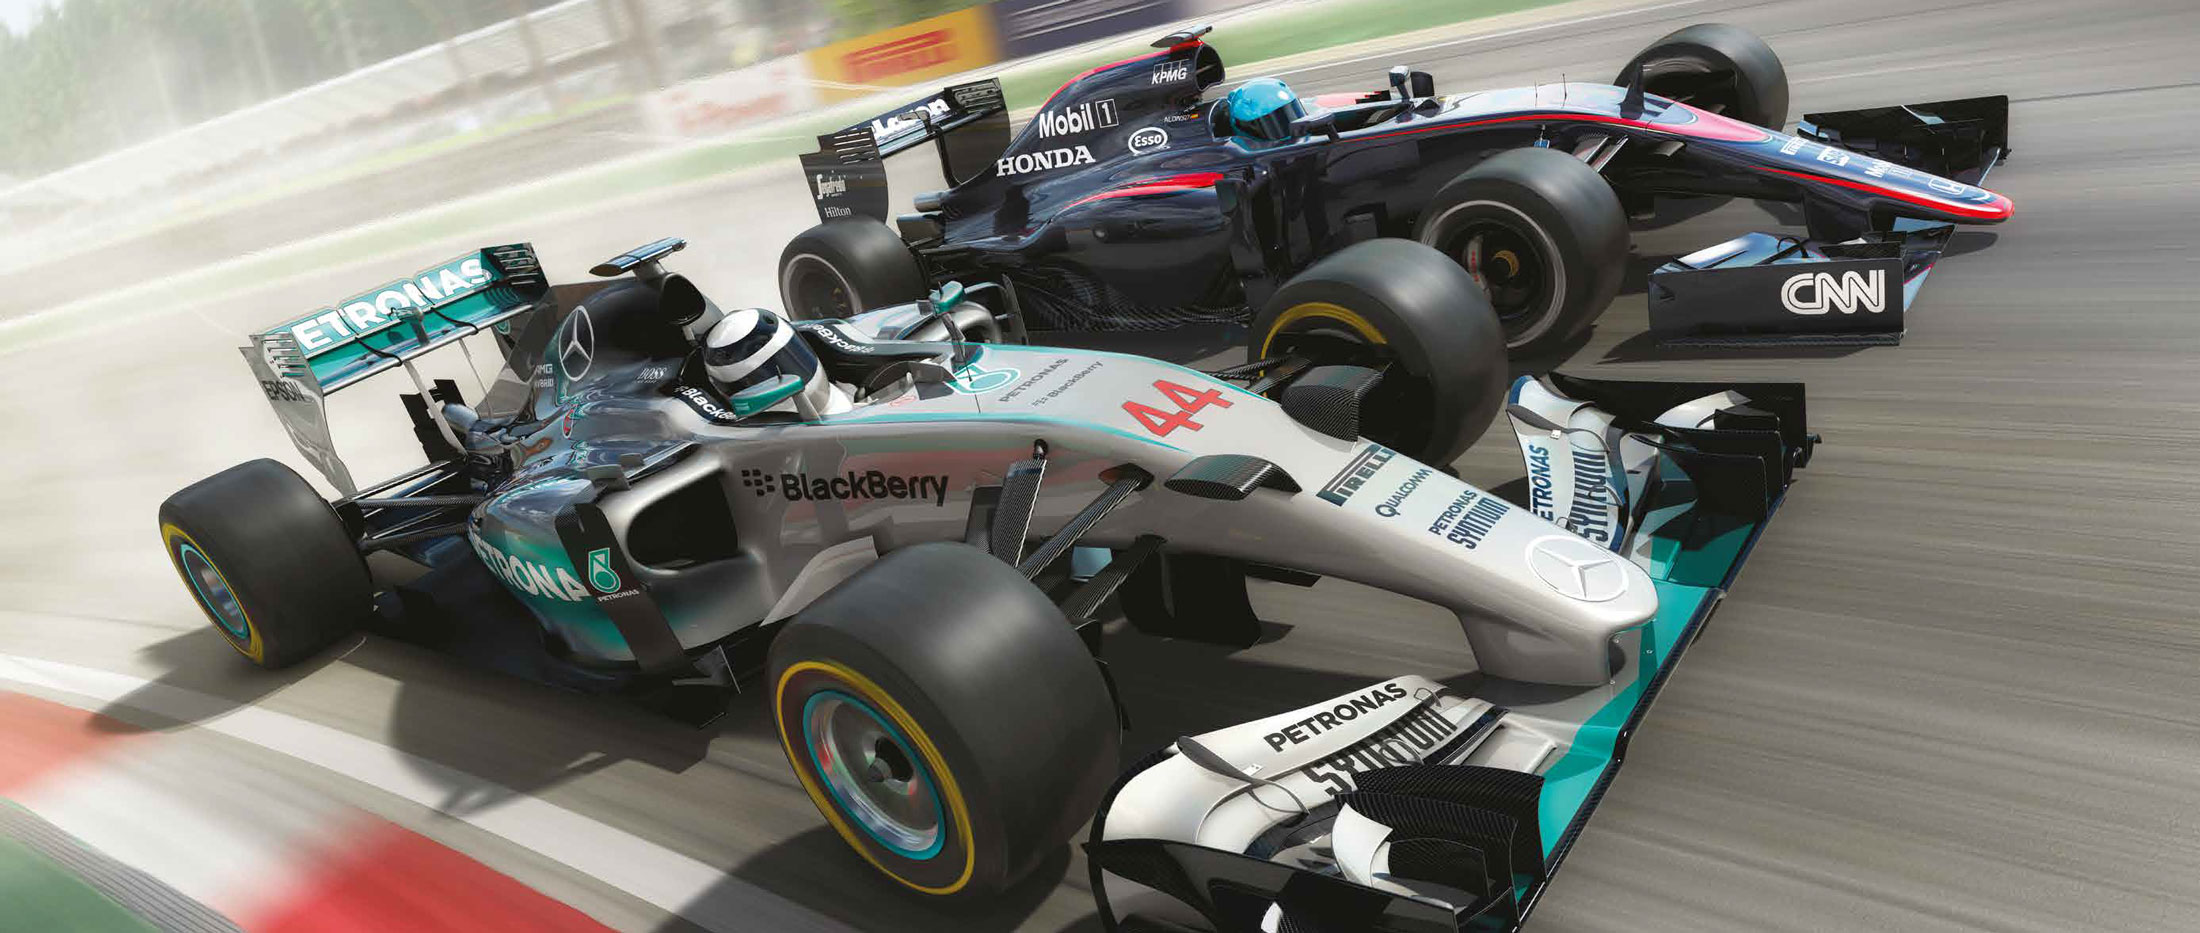f1_car: (125, 216, 1859, 933), (760, 13, 2041, 477)
helmet: (693, 286, 859, 448), (1209, 59, 1323, 168)
